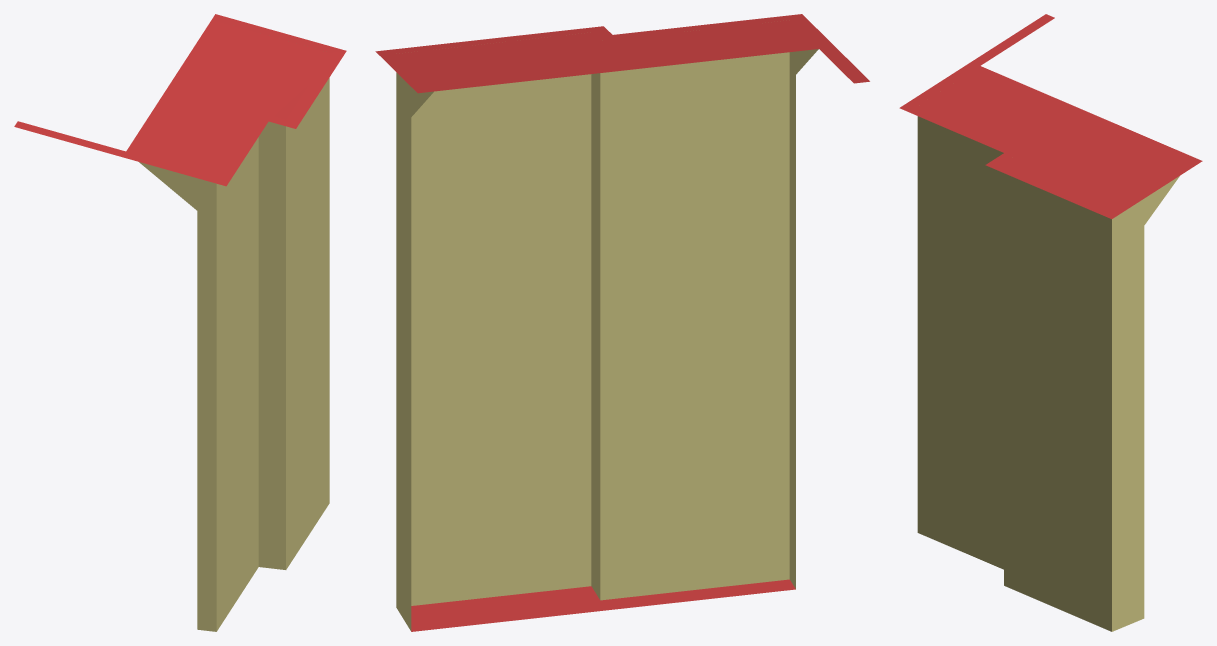
3 renders of one model, left to right at view 1: azimuth 30°, elevation 25°; view 2: azimuth 150°, elevation 25°; view 3: azimuth 270°, elevation 25°, orthographic. The views are drawn at different scales.
Bounding box in the file's own units: 7.57 × 5.77 × 9.59.
